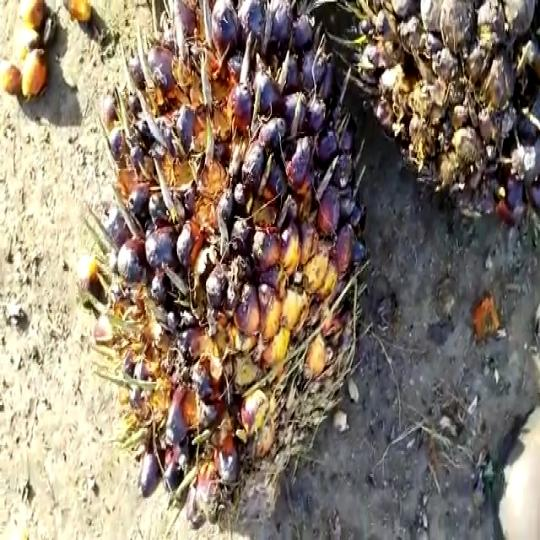masak: (108, 0, 369, 528)
